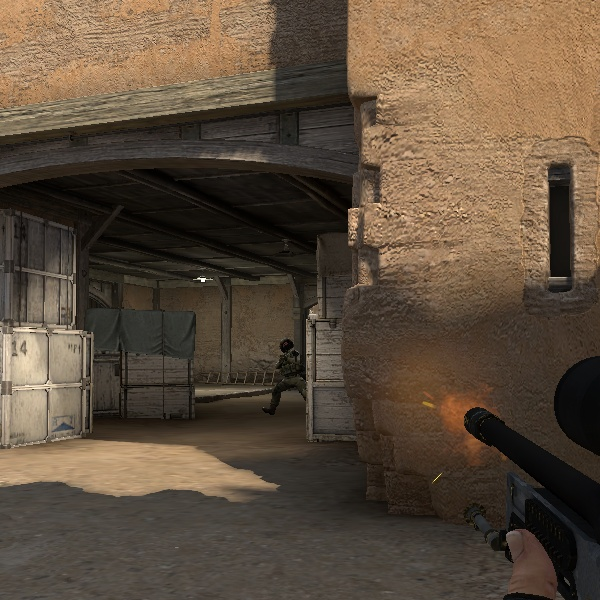ct_body: (263, 334, 305, 421)
ct_head: (277, 335, 297, 355)
